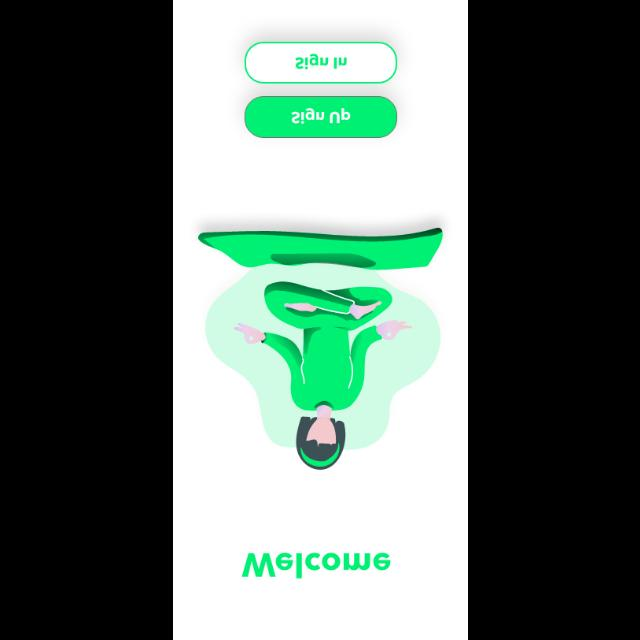image: (198, 227, 442, 469)
text: (242, 552, 391, 578)
textbutton: (245, 96, 398, 138), (245, 41, 398, 83)
